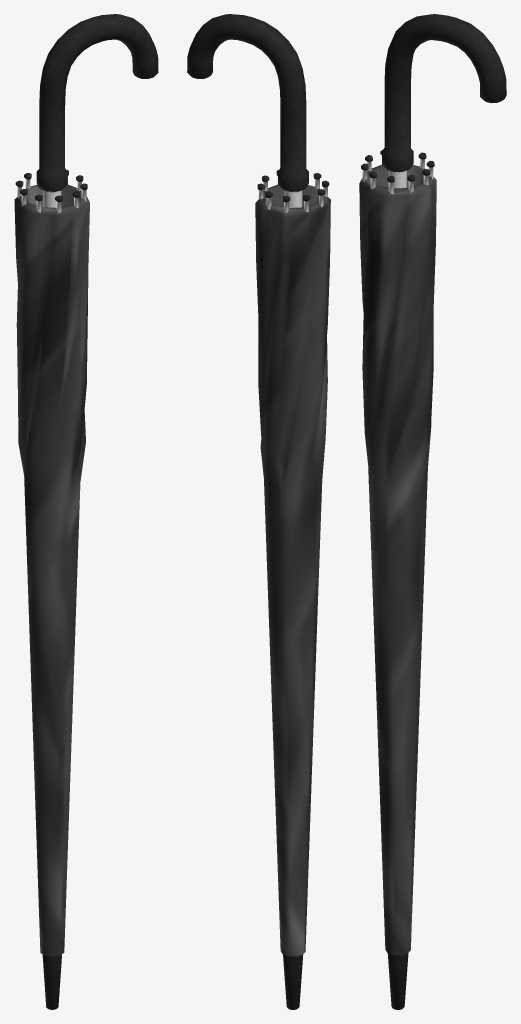
The model's file is SM_Umbrella.fbx.
The picture shows the model from 3 angles, left to right: view 1: azimuth 30°, elevation 25°; view 2: azimuth 150°, elevation 25°; view 3: azimuth 330°, elevation 25°; orthographic projection. The views are drawn at different scales.
Visible parts, largest first — view 1: SM_Umbrella_LOD0; view 2: SM_Umbrella_LOD0; view 3: SM_Umbrella_LOD0.
Part boxes in pixels (x1,y1,x2,y2): SM_Umbrella_LOD0: (14,14,158,1009); SM_Umbrella_LOD0: (187,14,330,1009); SM_Umbrella_LOD0: (359,14,506,1009).
Bounding box in the file's own units: 12.2 × 5.56 × 83.09.
